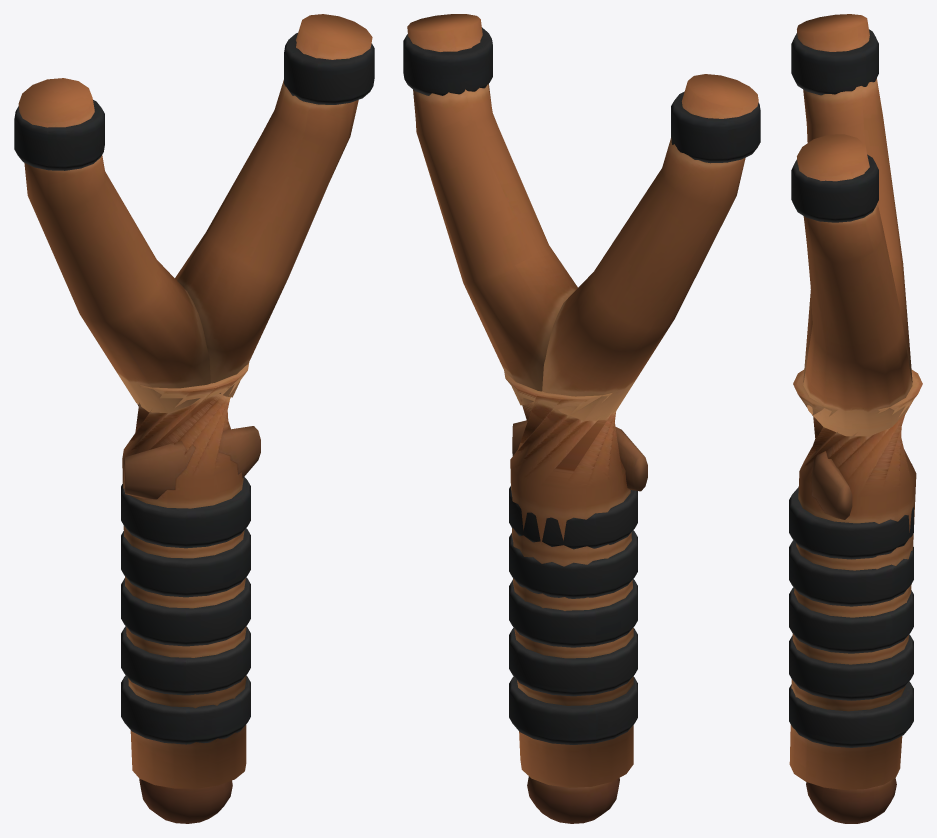
The model's file is slingshot.glb.
3 renders of one model, left to right at view 1: azimuth 30°, elevation 25°; view 2: azimuth 150°, elevation 25°; view 3: azimuth 270°, elevation 25°, orthographic. The views are drawn at different scales.
Parts seen in each view (by area): view 1: slingshot_body, slingshot_pouch; view 2: slingshot_body, slingshot_pouch; view 3: slingshot_body, slingshot_pouch.
Part boxes in pixels (x1,y1,x2,y2): slingshot_body: [14, 14, 374, 823]; slingshot_pouch: [124, 426, 260, 499]; slingshot_body: [403, 14, 760, 823]; slingshot_pouch: [512, 420, 647, 491]; slingshot_body: [789, 14, 922, 823]; slingshot_pouch: [811, 439, 852, 519].
Bounding box in the file's own units: 0.119 × 0.2505 × 0.0412.
1 material, 1 textured.
